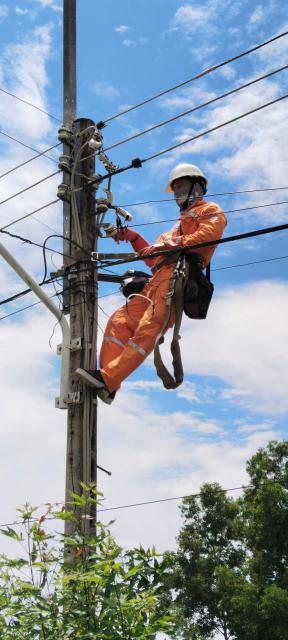gloves: (133, 236, 187, 256), (107, 221, 139, 247)
harness: (137, 251, 207, 279)
helmet: (161, 162, 219, 193)
shoes: (73, 367, 122, 409)
